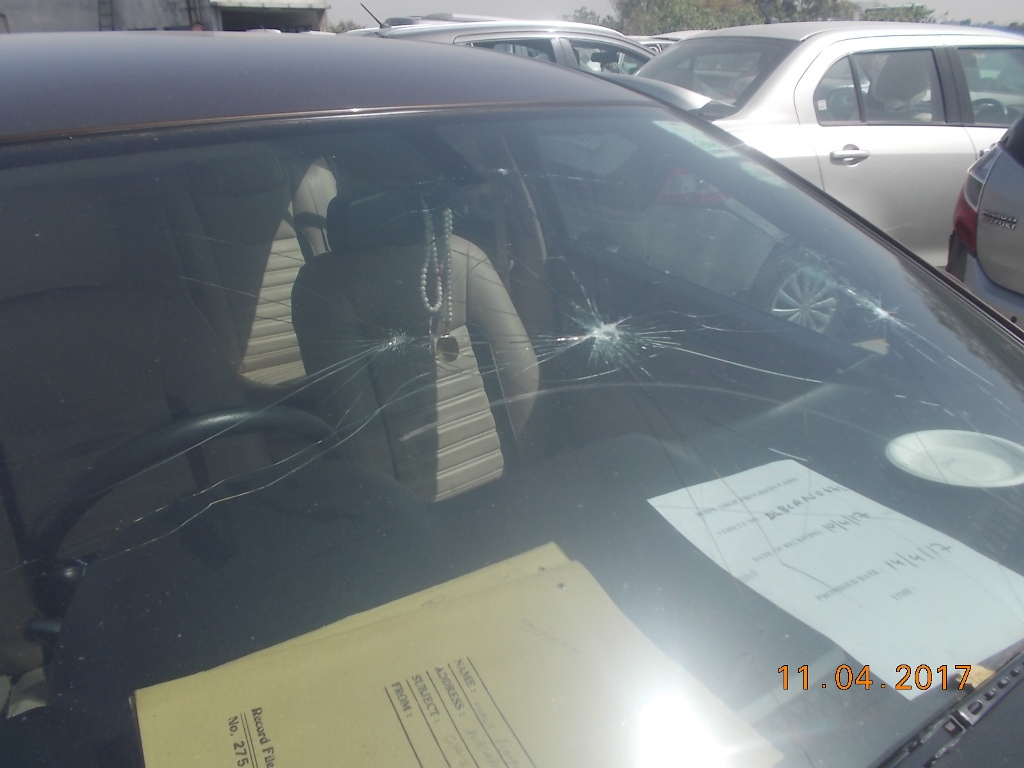Shatter: (544, 246, 693, 421), (271, 297, 460, 406), (833, 277, 922, 362)
